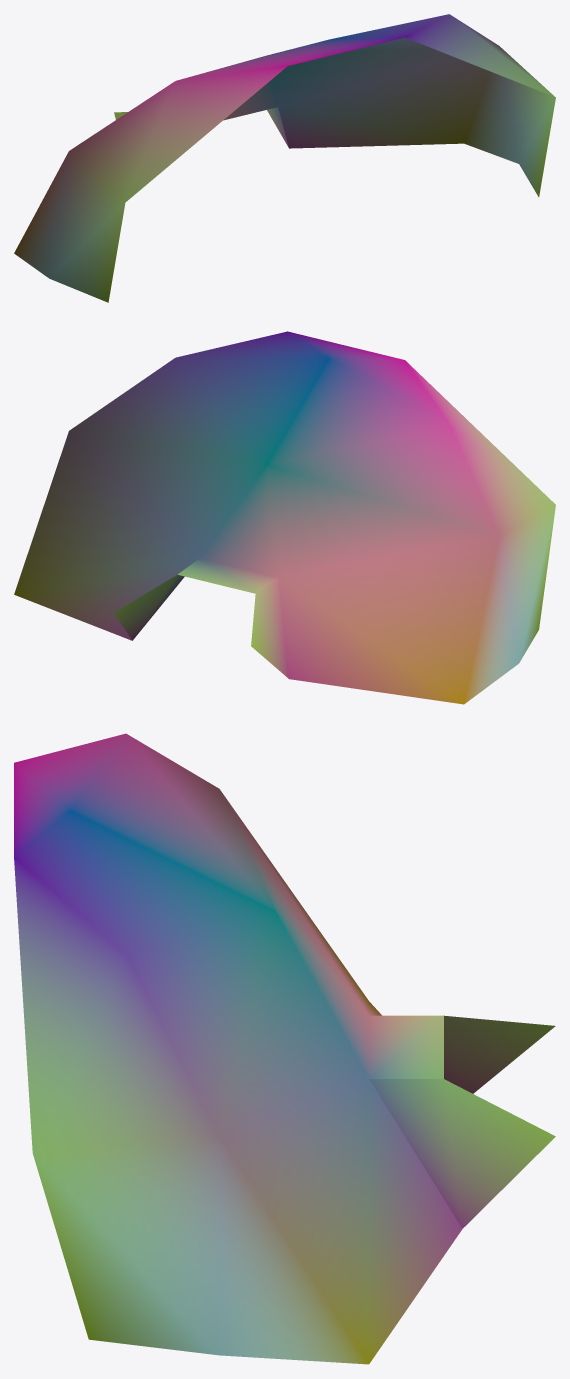
3 renders of one model, top to bottom at view 1: azimuth 30°, elevation 25°; view 2: azimuth 150°, elevation 25°; view 3: azimuth 270°, elevation 25°, orthographic. The views are drawn at different scales.
Visible parts, largest first — view 1: part; view 2: part; view 3: part.
Boxes of the visible parts, x1,y1,x2,y2 form: part: [14, 14, 555, 302]; part: [14, 331, 555, 704]; part: [14, 733, 555, 1364].
Size of the model in its own units: 48 by 22 by 29.
